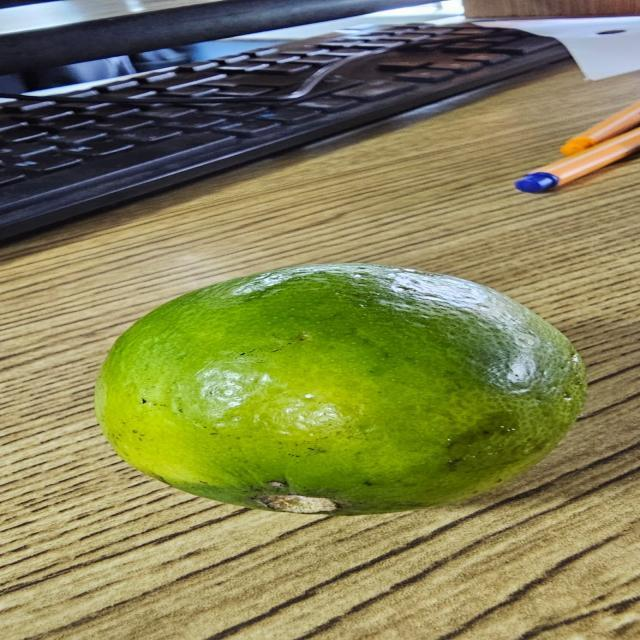Lemon: (71, 258, 602, 522)
